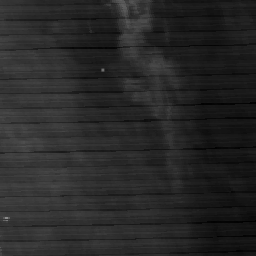Target: (99, 66, 106, 73)
